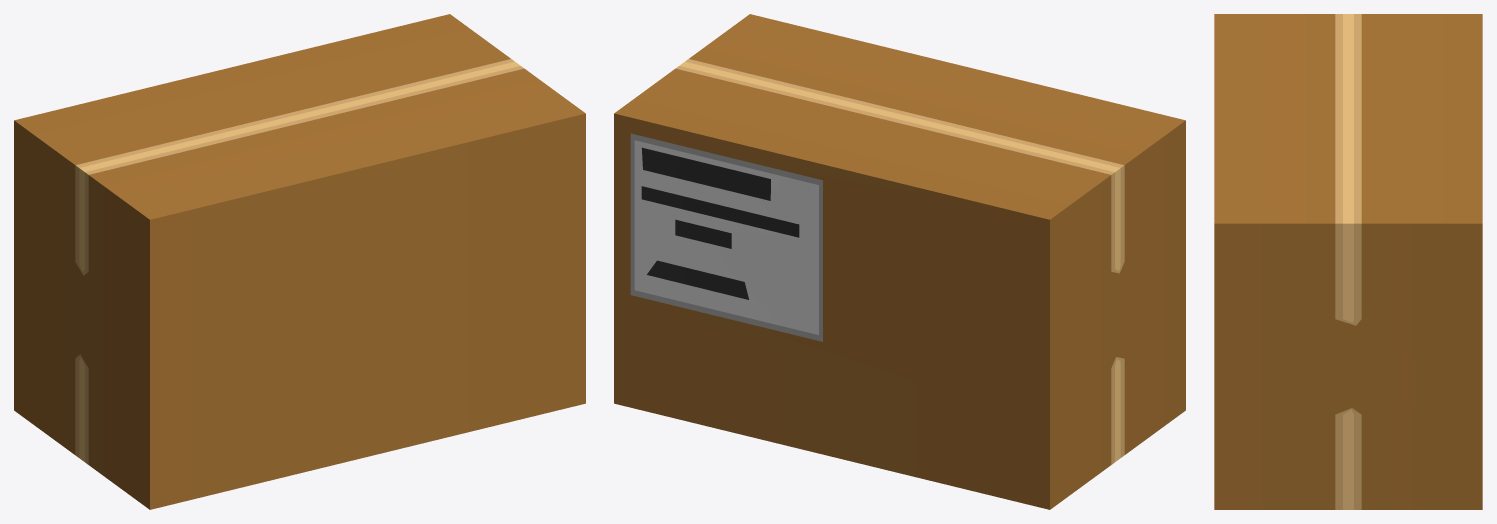
The model's file is Dark Packing Box #2.fbx.
3 renders of one model, left to right at view 1: azimuth 30°, elevation 25°; view 2: azimuth 150°, elevation 25°; view 3: azimuth 270°, elevation 25°, orthographic.
Parts seen in each view (by area): view 1: Small Dark Packing Box #2; view 2: Small Dark Packing Box #2; view 3: Small Dark Packing Box #2.
Part boxes in pixels (x1,y1,x2,y2): Small Dark Packing Box #2: (14, 14, 585, 509); Small Dark Packing Box #2: (614, 14, 1185, 509); Small Dark Packing Box #2: (1214, 14, 1482, 509).
Size of the model in its own units: 218 by 185 by 343.
1 material, 1 textured.
